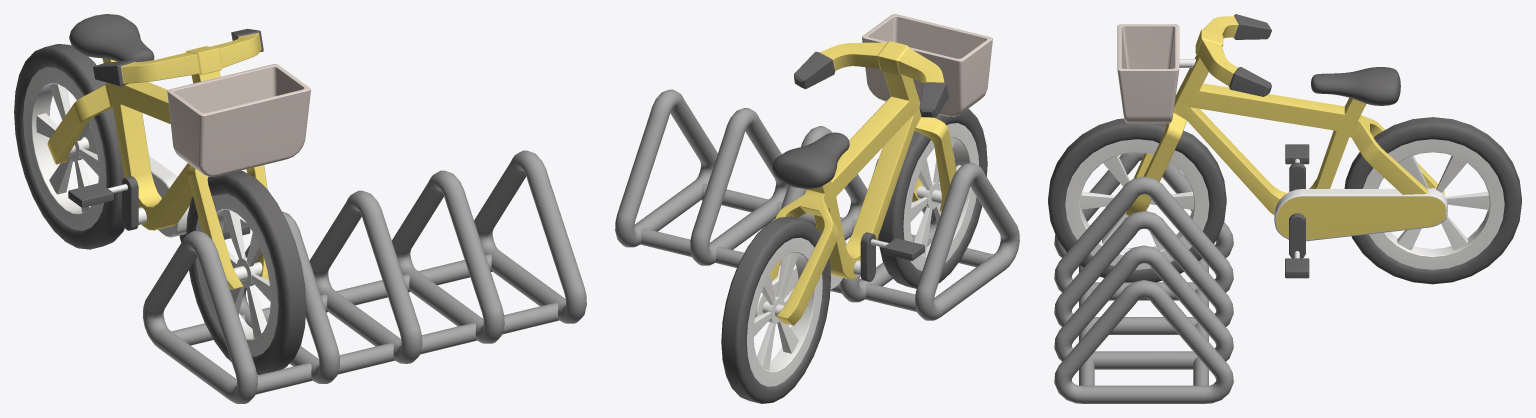
Rendered from bike.fbx.
3 renders of one model, left to right at view 1: azimuth 30°, elevation 25°; view 2: azimuth 150°, elevation 25°; view 3: azimuth 270°, elevation 25°, orthographic. The views are drawn at different scales.
Parts seen in each view (by area): view 1: Bike; view 2: Bike; view 3: Bike.
Part boxes in pixels (x1=…): Bike: x1=14, y1=14, x2=586, y2=403; Bike: x1=615, y1=14, x2=1019, y2=403; Bike: x1=1048, y1=14, x2=1521, y2=403.
Bounding box in the file's own units: 2.16 × 1.6 × 2.76.
